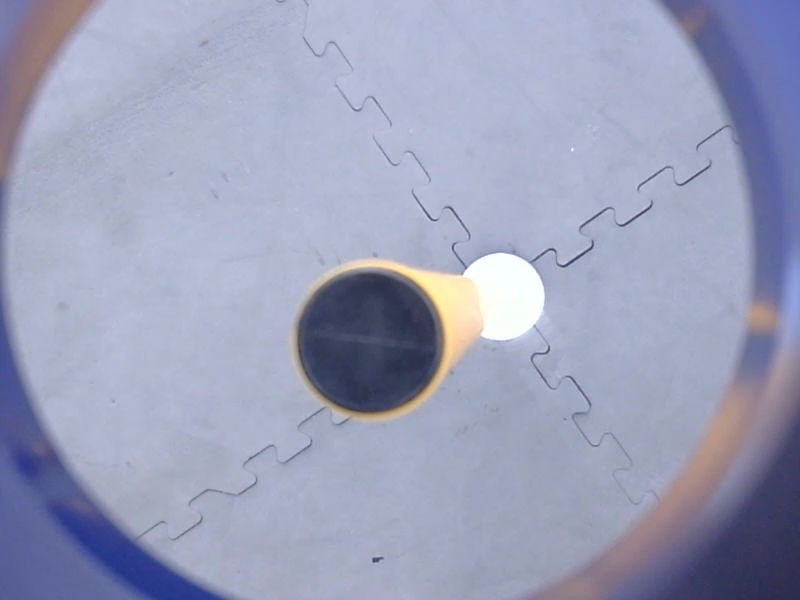tip: (283, 252, 458, 427)
